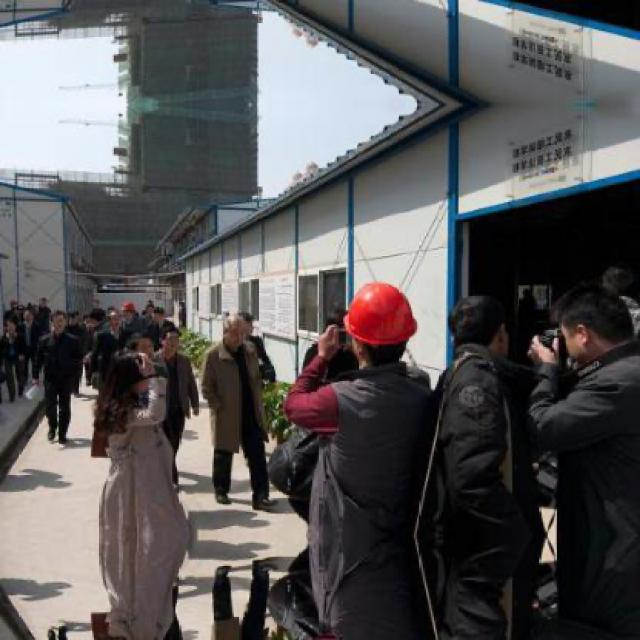con casco: (303, 274, 422, 410), (570, 296, 640, 373)
